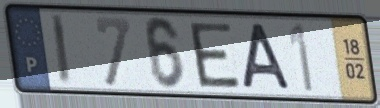1: (287, 21, 316, 95)
6: (144, 15, 187, 92)
7: (92, 15, 135, 88)
A: (241, 21, 294, 93)
E: (186, 21, 243, 91)
I: (47, 11, 74, 88)
